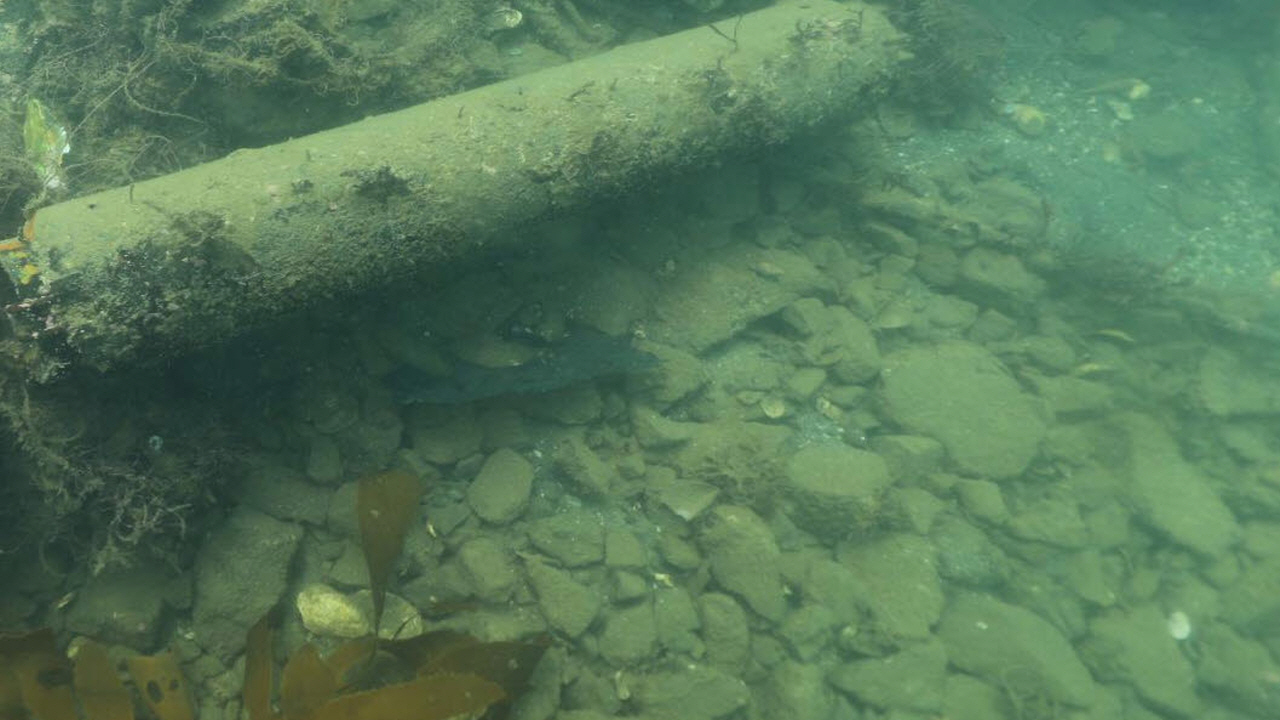eel fish trap: (0, 0, 903, 398)
